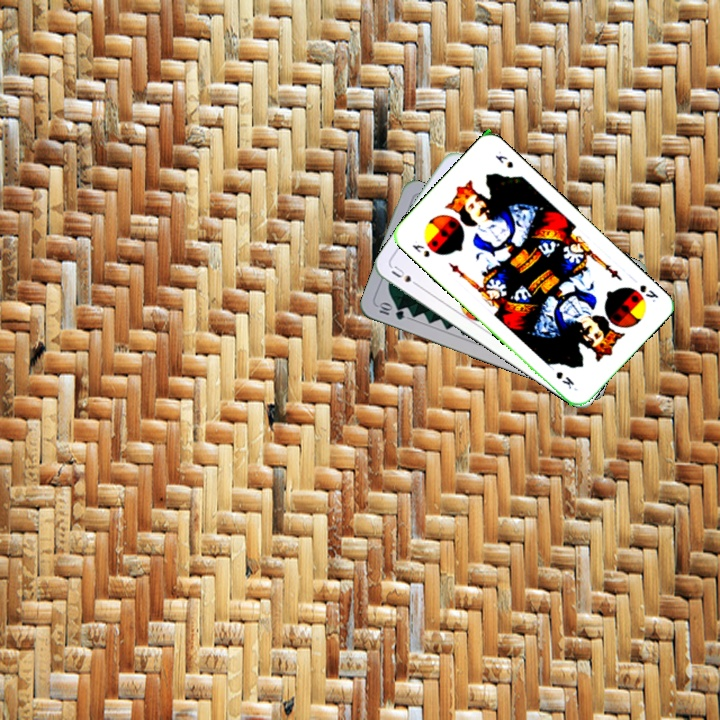G10: (374, 299, 407, 322)
SK: (635, 281, 661, 305), (408, 240, 432, 260)
SU: (387, 261, 423, 290)
